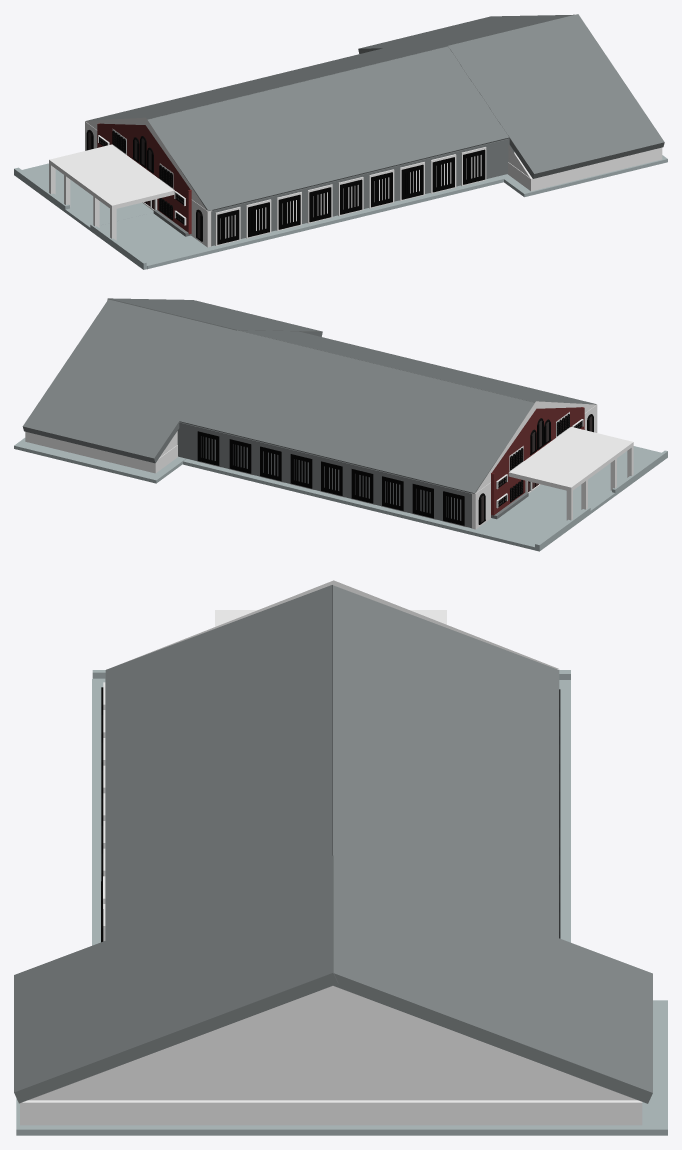
File: PIC.glb
3 renders of one model, top to bottom at view 1: azimuth 30°, elevation 25°; view 2: azimuth 150°, elevation 25°; view 3: azimuth 270°, elevation 25°, orthographic. The views are drawn at different scales.
Visible parts, largest first — view 1: cube.515; view 2: cube.515; view 3: cube.515.
Part boxes in pixels (bbox=[...]): cube.515: bbox=[14, 14, 667, 269]; cube.515: bbox=[14, 298, 667, 551]; cube.515: bbox=[14, 580, 667, 1135].
Bounding box in the file's own units: 20.48 × 3.42 × 12.48.
Materials: 12 (12 with a texture image).
